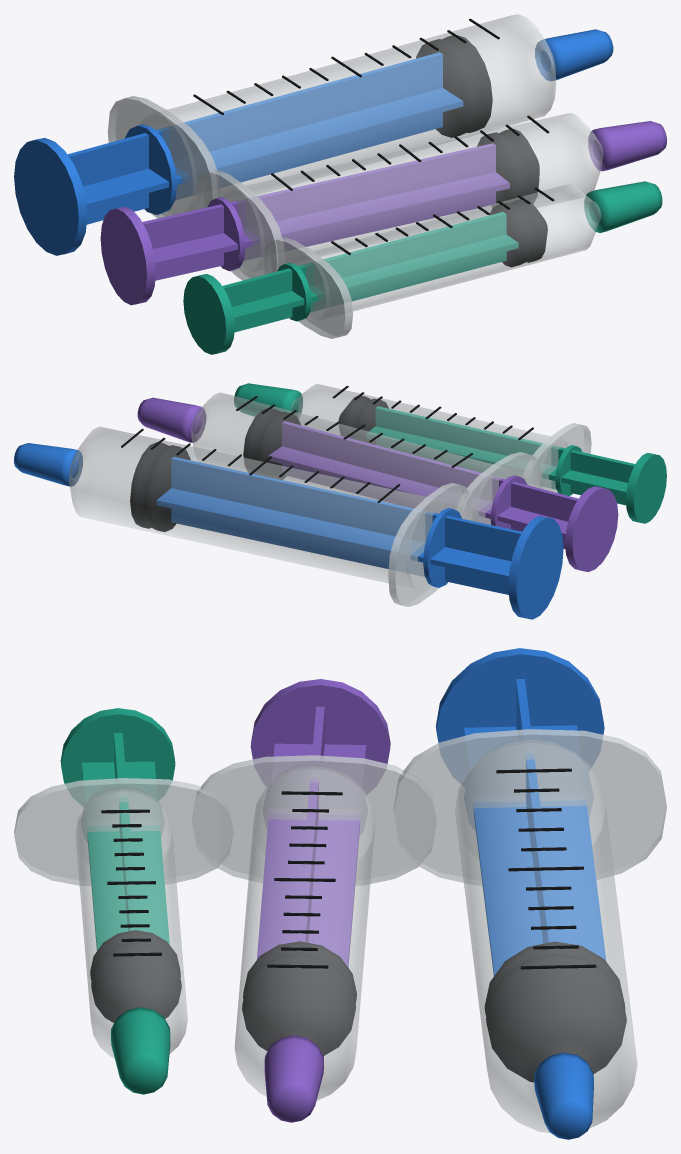
Rendered from item-76.glb.
The picture shows the model from 3 angles, top to bottom: view 1: azimuth 30°, elevation 25°; view 2: azimuth 150°, elevation 25°; view 3: azimuth 270°, elevation 25°; orthographic projection. The views are drawn at different scales.
Parts seen in each view (by area): view 1: barrel, barrel.001, barrel.002, rod_b, rod_b.001, rod_b.002, rod_a, thumb, rod_a.001, flange, rod_a.002, flange.001 (+12 smaller); view 2: barrel, barrel.001, rod_b, barrel.002, rod_b.001, rod_a, rod_b.002, flange, thumb, rod_a.001, thumb.001, gasket (+12 smaller); view 3: barrel, barrel.001, flange, barrel.002, flange.001, rod_a, flange.002, gasket, rod_a.001, thumb, gasket.001, thumb.001 (+9 smaller).
Part boxes in pixels (x1,y1,x2,y2): barrel: [141, 14, 556, 214]; barrel.001: [224, 113, 602, 272]; barrel.002: [293, 184, 600, 320]; rod_b: [67, 52, 442, 224]; rod_b.001: [142, 143, 495, 280]; rod_b.002: [222, 212, 506, 332]; rod_a: [83, 88, 463, 209]; thumb: [14, 138, 87, 255]; rod_a.001: [153, 172, 509, 267]; flange: [107, 96, 219, 218]; rod_a.002: [232, 234, 518, 322]; flange.001: [196, 170, 284, 280]; barrel: [69, 426, 447, 589]; barrel.001: [191, 392, 512, 521]; rod_b: [171, 457, 522, 594]; barrel.002: [290, 384, 567, 491]; rod_b.001: [282, 421, 578, 549]; rod_a: [156, 488, 511, 580]; rod_b.002: [375, 406, 635, 505]; flange: [388, 483, 471, 606]; thumb: [508, 516, 563, 619]; rod_a.001: [268, 446, 567, 538]; thumb.001: [565, 486, 618, 571]; gasket: [130, 442, 190, 531]; barrel: [455, 740, 637, 1132]; barrel.001: [234, 766, 375, 1100]; flange: [393, 729, 666, 885]; barrel.002: [75, 789, 187, 1058]; flange.001: [192, 755, 436, 885]; rod_a: [464, 725, 606, 975]; flange.002: [14, 778, 233, 885]; gasket: [484, 941, 626, 1082]; rod_a.001: [257, 743, 366, 967]; thumb: [435, 648, 604, 782]; gasket.001: [242, 941, 356, 1055]; thumb.001: [250, 679, 390, 793].
Size of the model in its own units: 0.1317 by 0.0234 by 0.0908.
